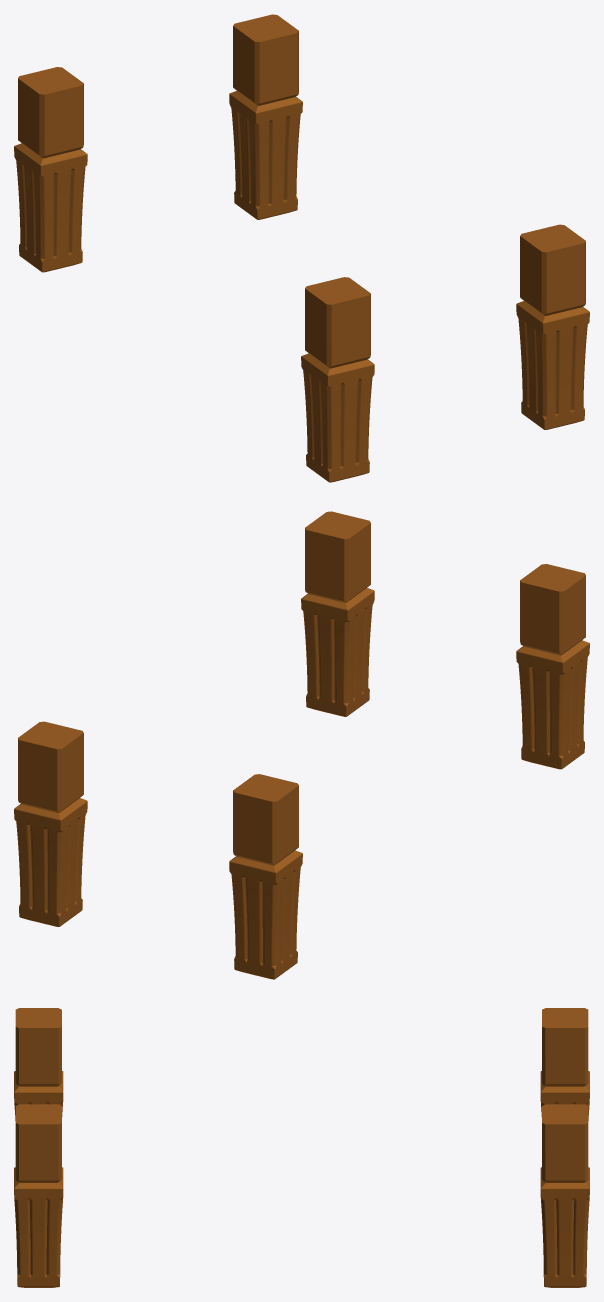
File: MeshTable2.obj
The picture shows the model from 3 angles, top to bottom: view 1: azimuth 30°, elevation 25°; view 2: azimuth 150°, elevation 25°; view 3: azimuth 270°, elevation 25°; orthographic projection. The views are drawn at different scales.
Visible parts, largest first — view 1: Box090_Mesh.005; view 2: Box090_Mesh.005; view 3: Box090_Mesh.005.
Part boxes in pixels (x1,y1,x2,y2): Box090_Mesh.005: [14, 14, 589, 482]; Box090_Mesh.005: [14, 511, 589, 979]; Box090_Mesh.005: [14, 1008, 589, 1287].
Bounding box in the file's own units: 0.9913 × 0.6557 × 2.05.
